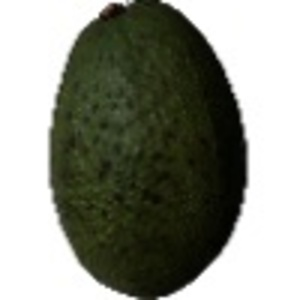abacate: (48, 1, 250, 299)
